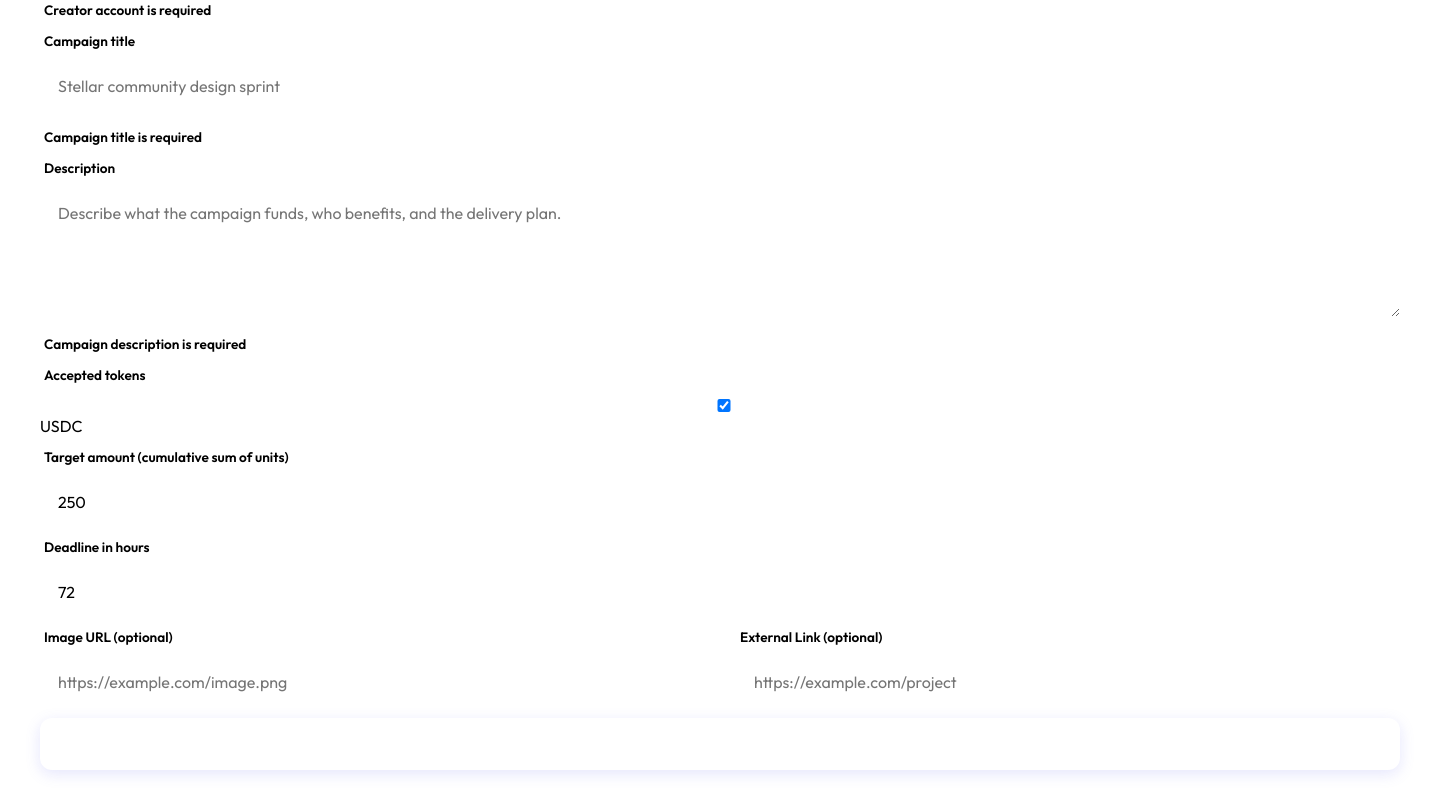
Scenario: CreateCampaignForm › Field Validation - Deadline Hours › shows error for deadline exceeding maximum
(page scrolled)
Replace the text in the number field labelled "Deadline in hours" with "9000". click: point(720, 592)
box: [40,568,1400,616]
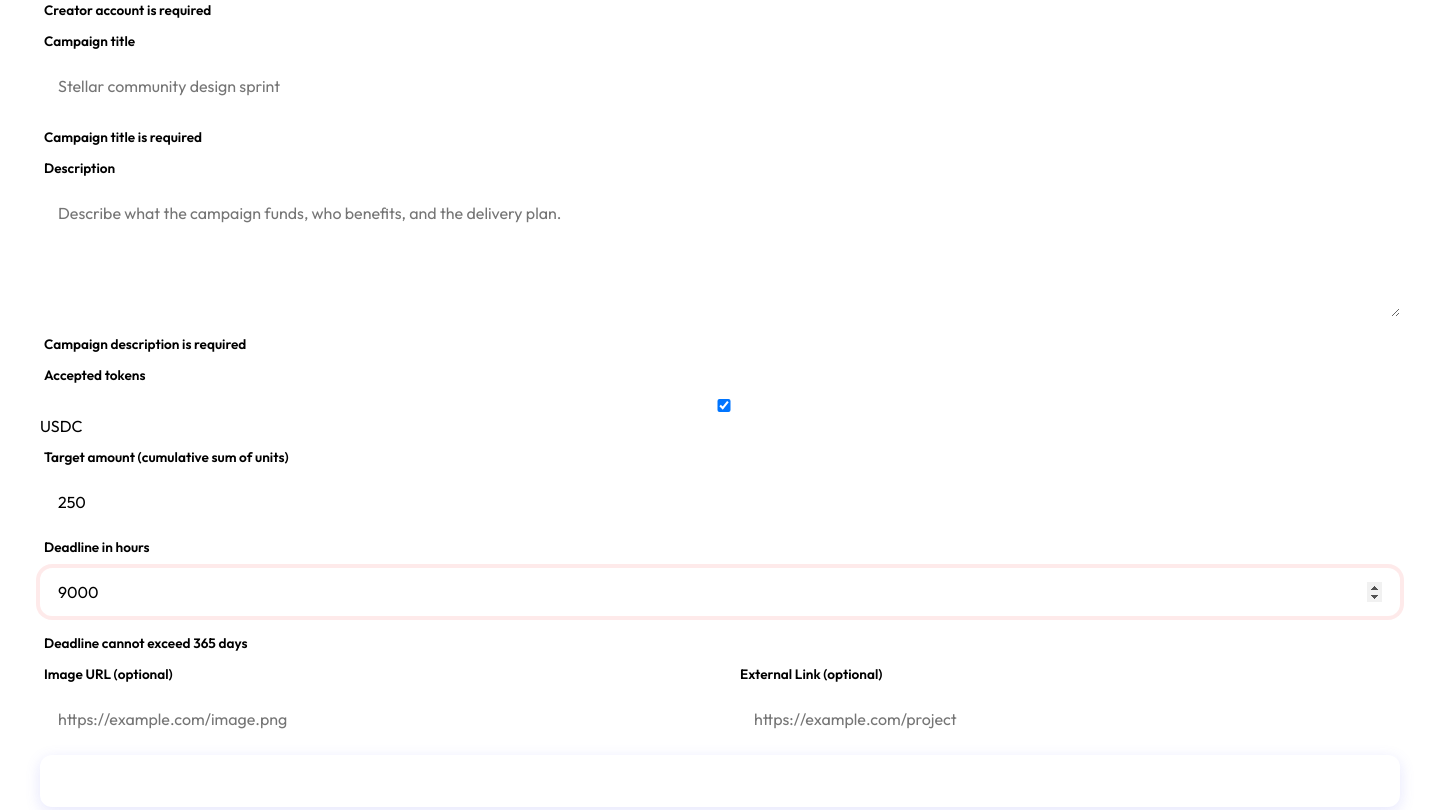
Result: the text "Deadline cannot exceed 365 days" is shown at [44,634,248,652]
